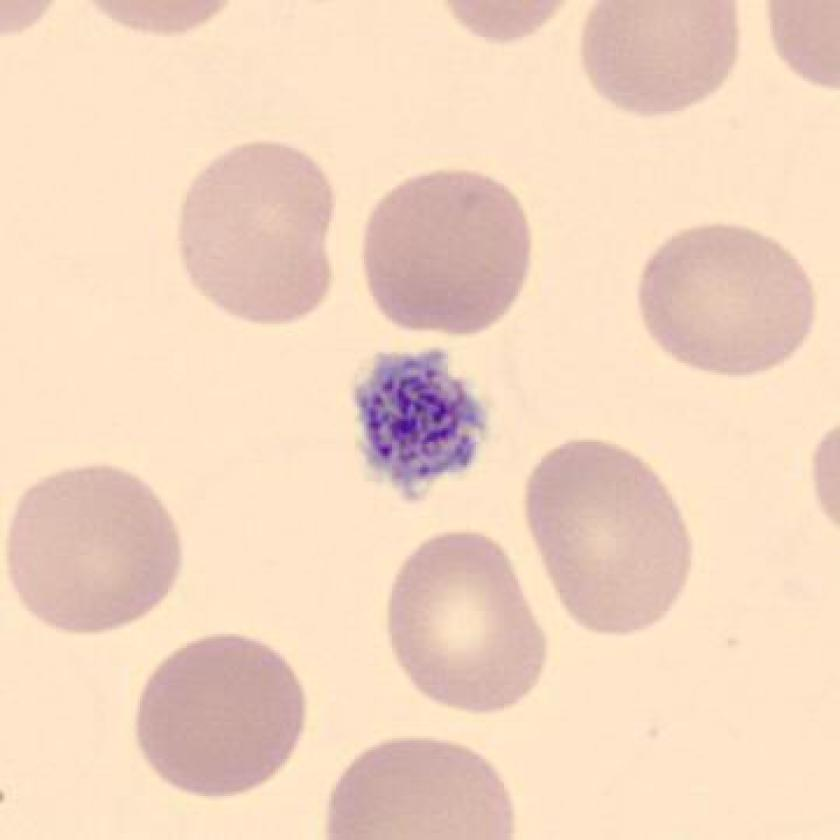platelets: (347, 337, 501, 513)
